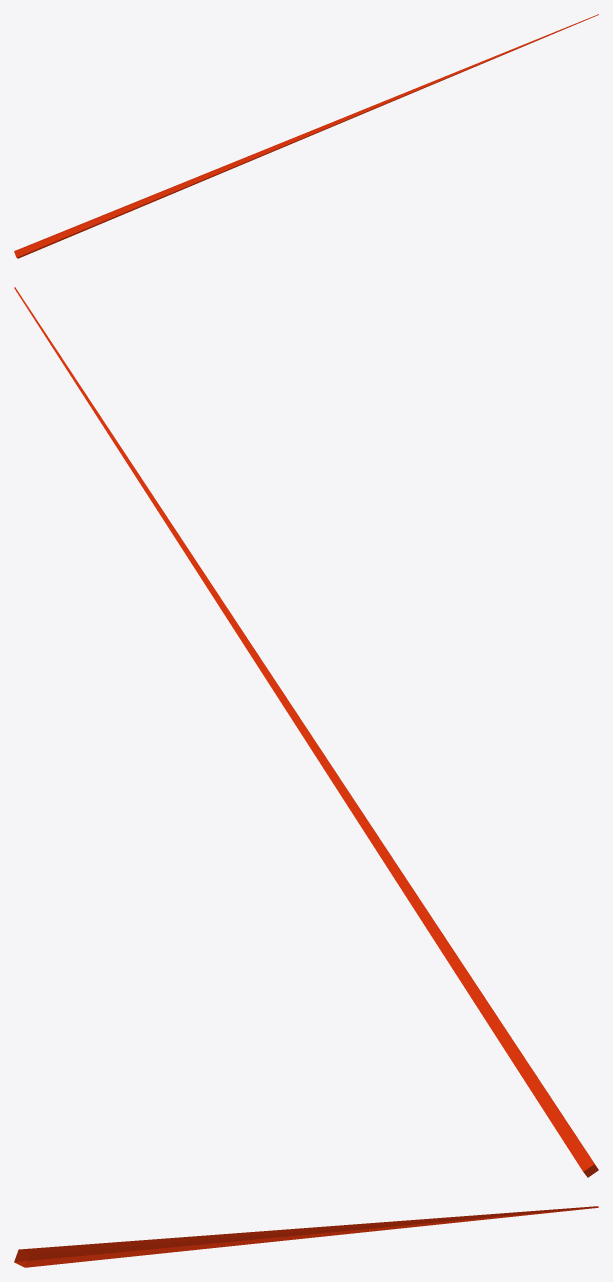
File: Event_421364160_EBrechit_10.fbx
The picture shows the model from 3 angles, top to bottom: view 1: azimuth 30°, elevation 25°; view 2: azimuth 150°, elevation 25°; view 3: azimuth 330°, elevation 25°; orthographic projection. The views are drawn at different scales.
Visible parts, largest first — view 1: Model; view 2: Model; view 3: Model.
Part boxes in pixels (left/top/right/bottom): Model: left=14, top=14, right=598, bottom=258; Model: left=14, top=287, right=598, bottom=1177; Model: left=14, top=1206, right=598, bottom=1267.
Bounding box in the file's own units: 45.18 × 23.84 × 26.02.
